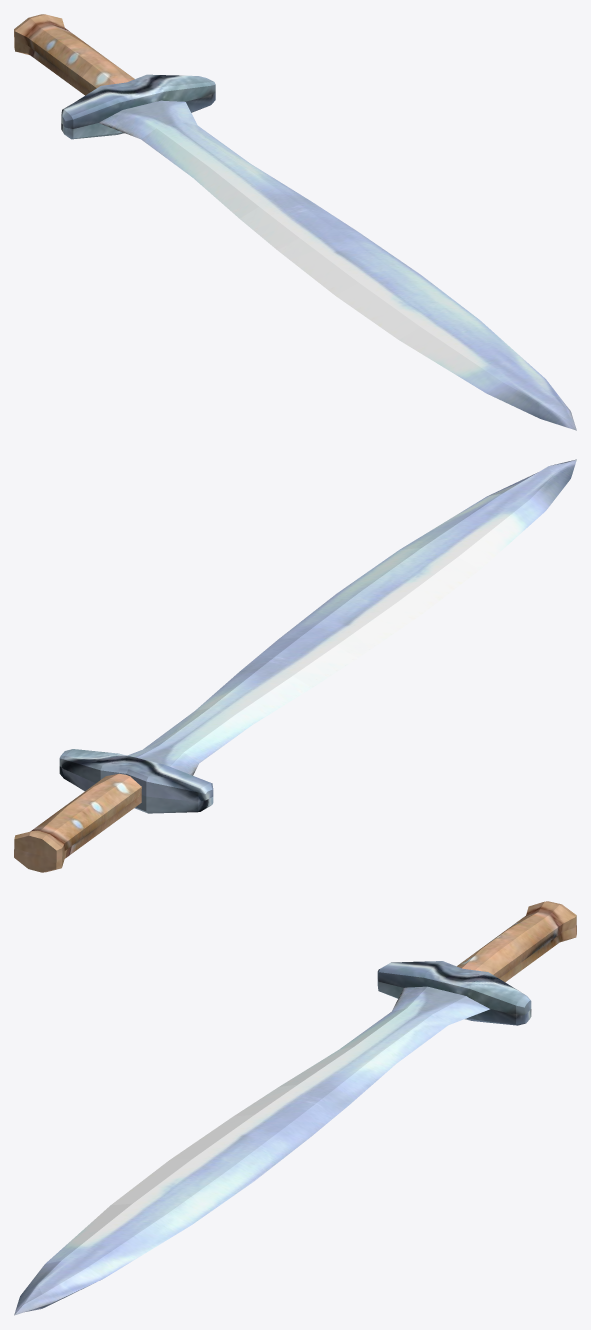
The model's file is sword.fbx.
3 views of the same model, one above another, from view 1: azimuth 30°, elevation 25°; view 2: azimuth 150°, elevation 25°; view 3: azimuth 330°, elevation 25° (orthographic).
Parts seen in each view (by area): view 1: Sword; view 2: Sword; view 3: Sword.
Boxes of the visible parts, x1,y1,x2,y2 form: Sword: (14,14,576,430); Sword: (14,459,576,872); Sword: (14,901,576,1315).
Size of the model in its own units: 15.26 by 3.7 by 96.22.
